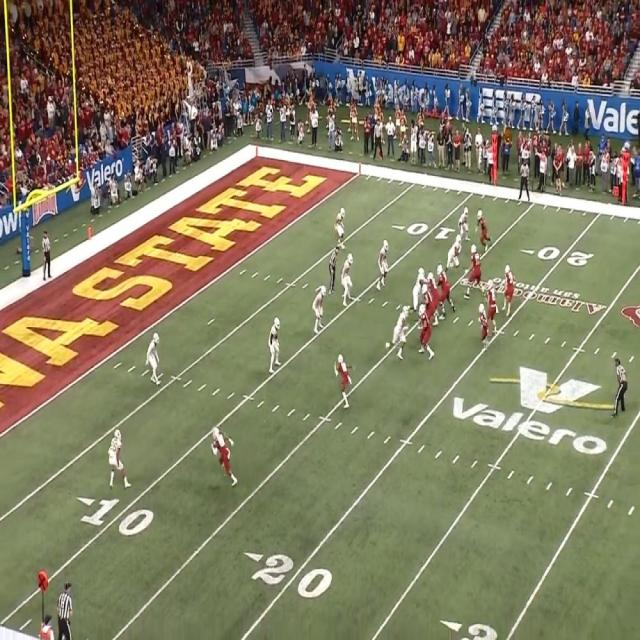center: (428, 268, 442, 325)
db: (111, 429, 128, 484), (147, 333, 160, 384), (270, 316, 282, 368), (334, 205, 345, 247), (459, 204, 470, 234)
lb: (310, 286, 328, 328), (339, 252, 354, 300), (381, 240, 391, 288)
qb: (486, 278, 498, 333)
skill: (209, 426, 240, 484), (330, 358, 358, 408), (502, 266, 516, 316), (478, 302, 488, 341), (478, 210, 488, 240)
